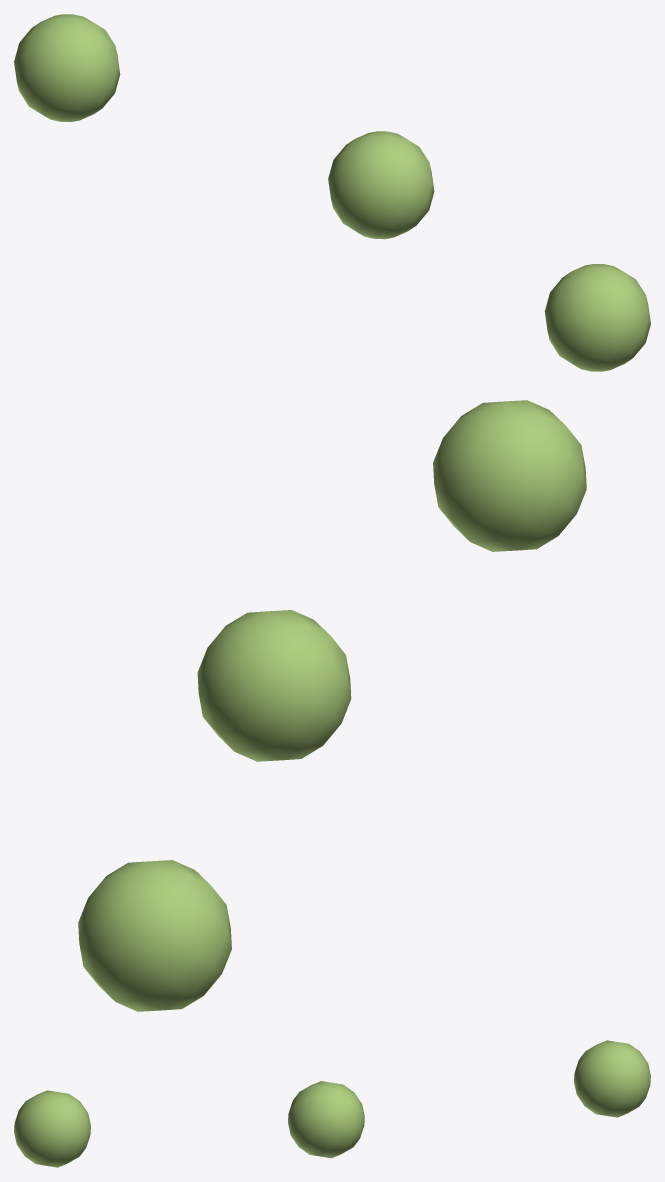
Rendered from submandibular-nodes-r.glb.
3 views of the same model, one above another, from view 1: azimuth 30°, elevation 25°; view 2: azimuth 150°, elevation 25°; view 3: azimuth 270°, elevation 25° (orthographic). The views are drawn at different scales.
Visible parts, largest first — view 1: Submandibular nodes.r; view 2: Submandibular nodes.r; view 3: Submandibular nodes.r.
Boxes of the visible parts, left/top/right/bottom form: Submandibular nodes.r: left=14, top=14, right=650, bottom=371; Submandibular nodes.r: left=78, top=400, right=586, bottom=1011; Submandibular nodes.r: left=14, top=1040, right=650, bottom=1167.
Size of the model in its own units: 0.00649 by 0.00256 by 0.0212.
